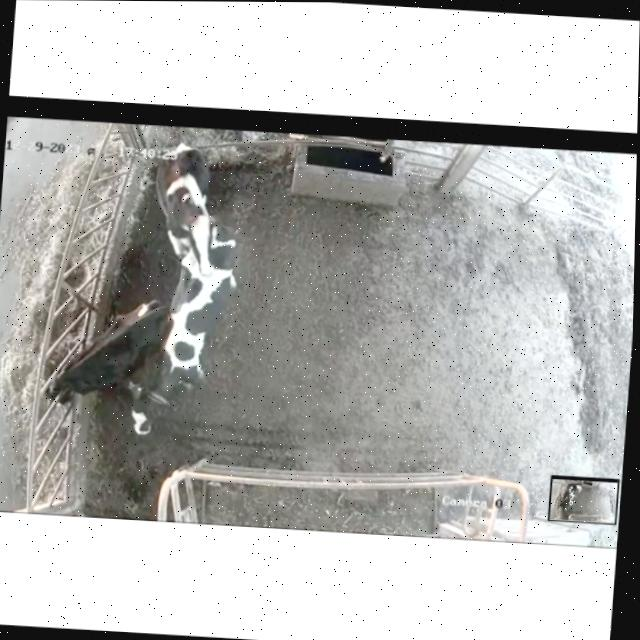propping: (158, 196, 247, 291)
